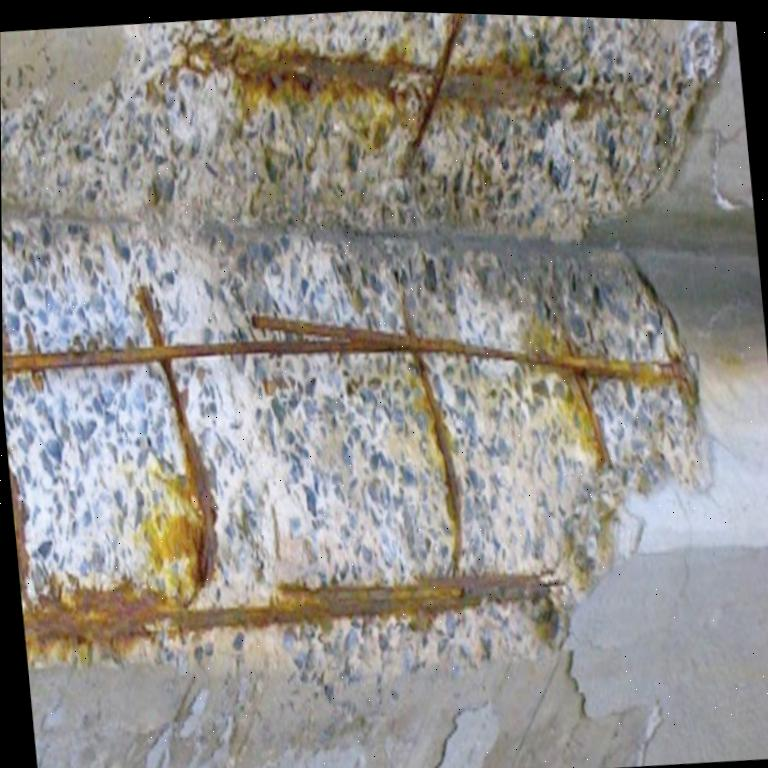exposed_rebar: (3, 285, 697, 587), (175, 13, 610, 178)
spalling: (1, 11, 723, 678)
